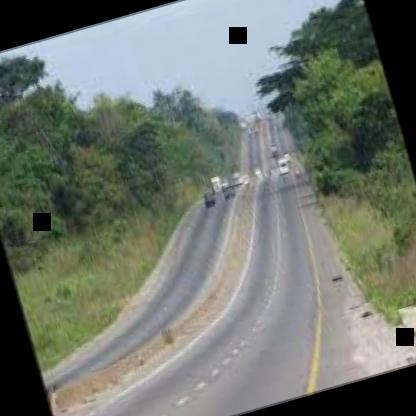car: (275, 156, 300, 191), (192, 186, 222, 212)
